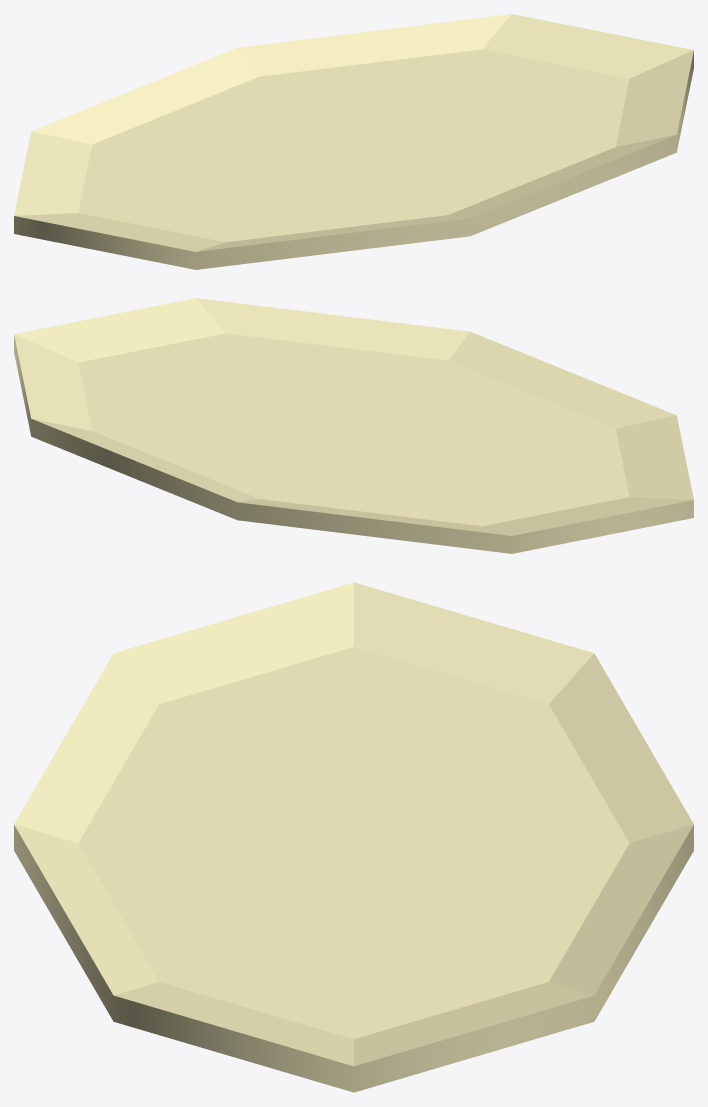
The model's file is Itr_Obj_dish3_02.FBX.
3 views of the same model, one above another, from view 1: azimuth 30°, elevation 25°; view 2: azimuth 150°, elevation 25°; view 3: azimuth 270°, elevation 25° (orthographic). The views are drawn at different scales.
Parts seen in each view (by area): view 1: Itr_Obj_dish3_02; view 2: Itr_Obj_dish3_02; view 3: Itr_Obj_dish3_02.
Boxes of the visible parts, <box> form: Itr_Obj_dish3_02: <box>14,14,693,269</box>; Itr_Obj_dish3_02: <box>14,298,693,553</box>; Itr_Obj_dish3_02: <box>14,582,693,1092</box>.
Size of the model in its own units: 21.8 by 0.9449 by 12.94.
